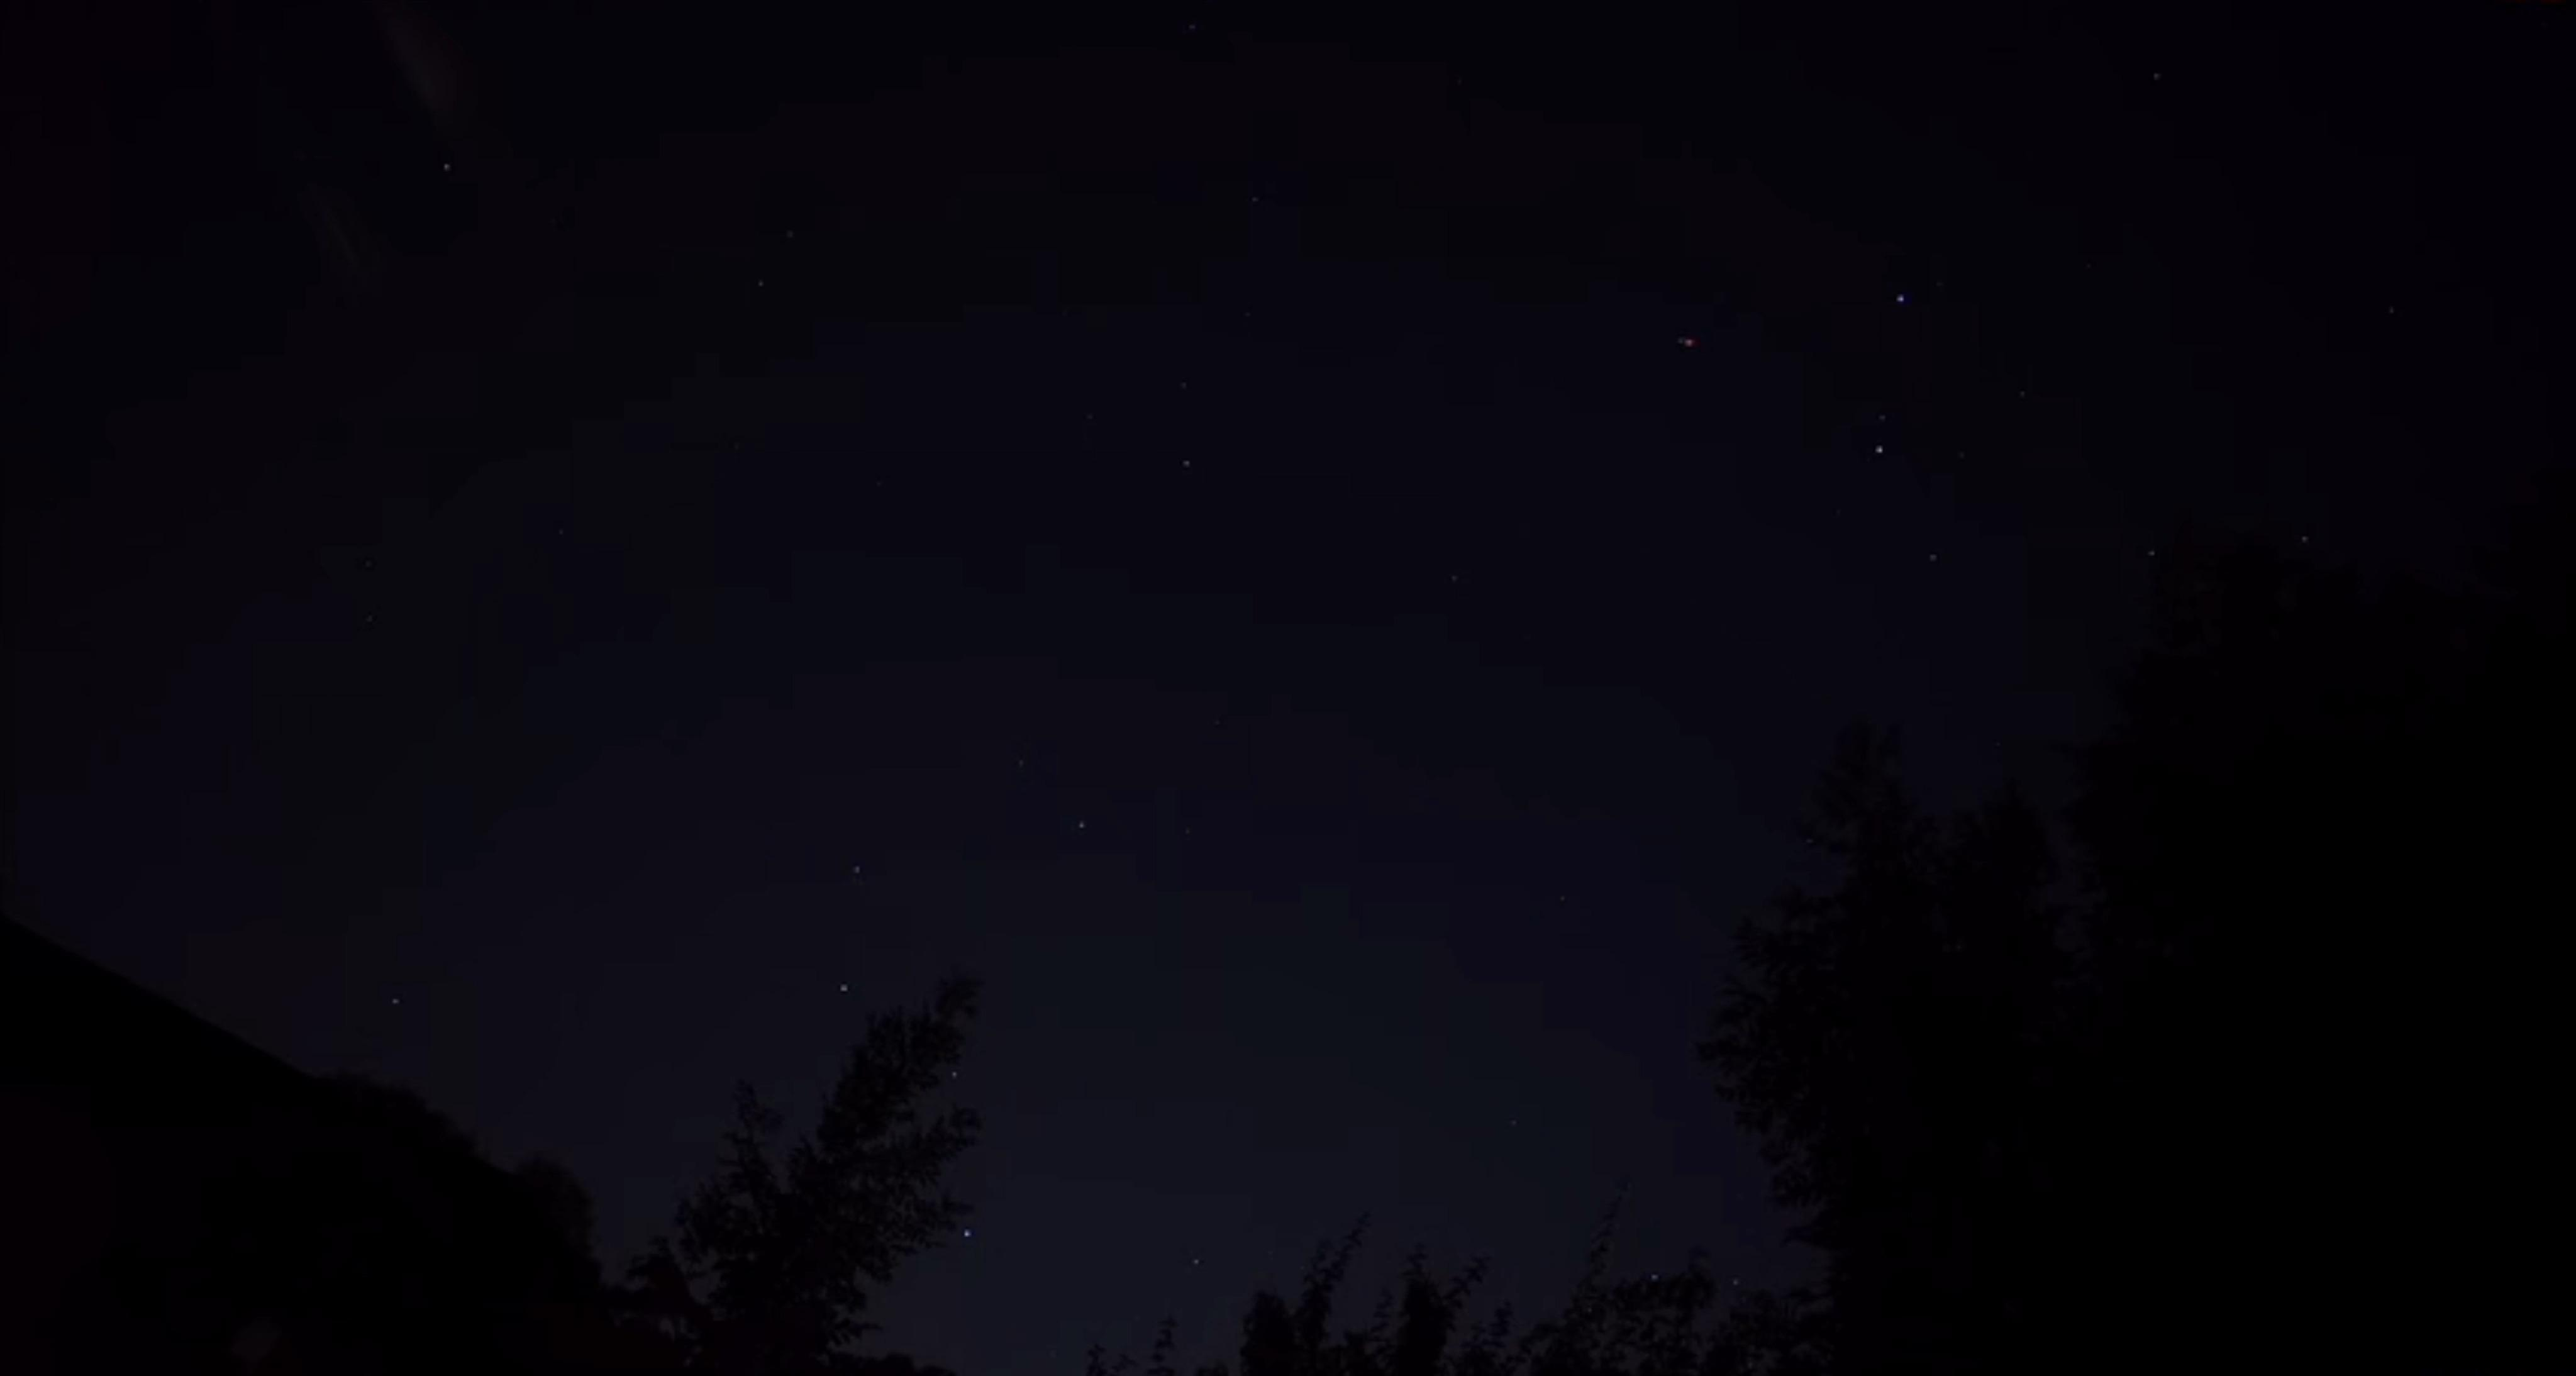Plane: (1637, 324, 1731, 361)
